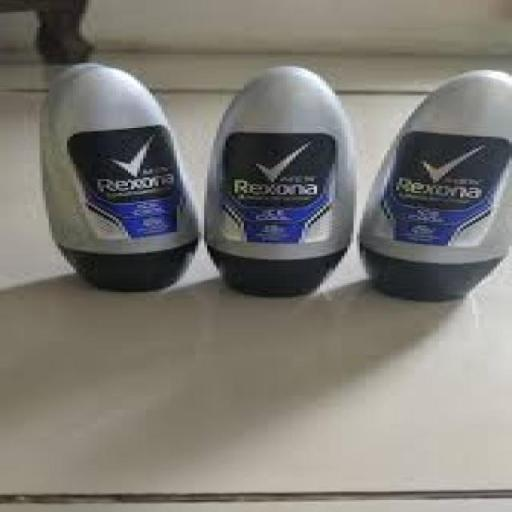plastic: (26, 59, 202, 296), (357, 67, 512, 305), (203, 64, 355, 300)
